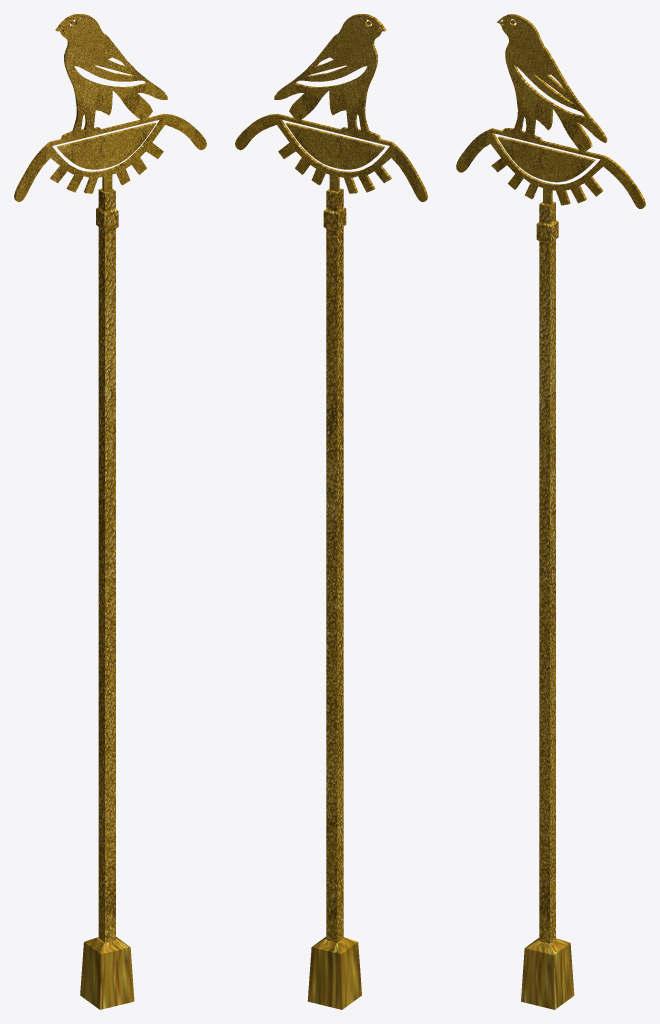
Rendered from Symbol.FBX.
3 views of the same model, side by side, from view 1: azimuth 30°, elevation 25°; view 2: azimuth 150°, elevation 25°; view 3: azimuth 330°, elevation 25° (orthographic).
Parts seen in each view (by area): view 1: symbol; view 2: symbol; view 3: symbol.
Boxes of the visible parts, left/top/right/bottom form: symbol: left=14, top=14, right=206, bottom=1009; symbol: left=235, top=14, right=427, bottom=1009; symbol: left=456, top=14, right=645, bottom=1009.
Size of the model in its own units: 148 by 731 by 26.57.
1 material, 1 textured.
